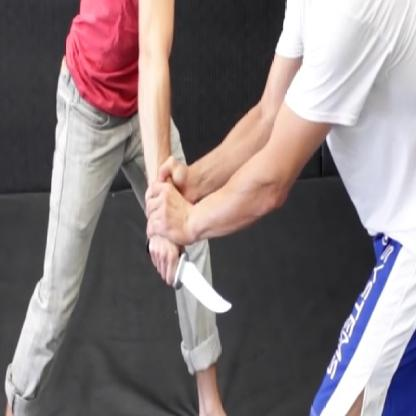knife: (143, 234, 235, 318)
